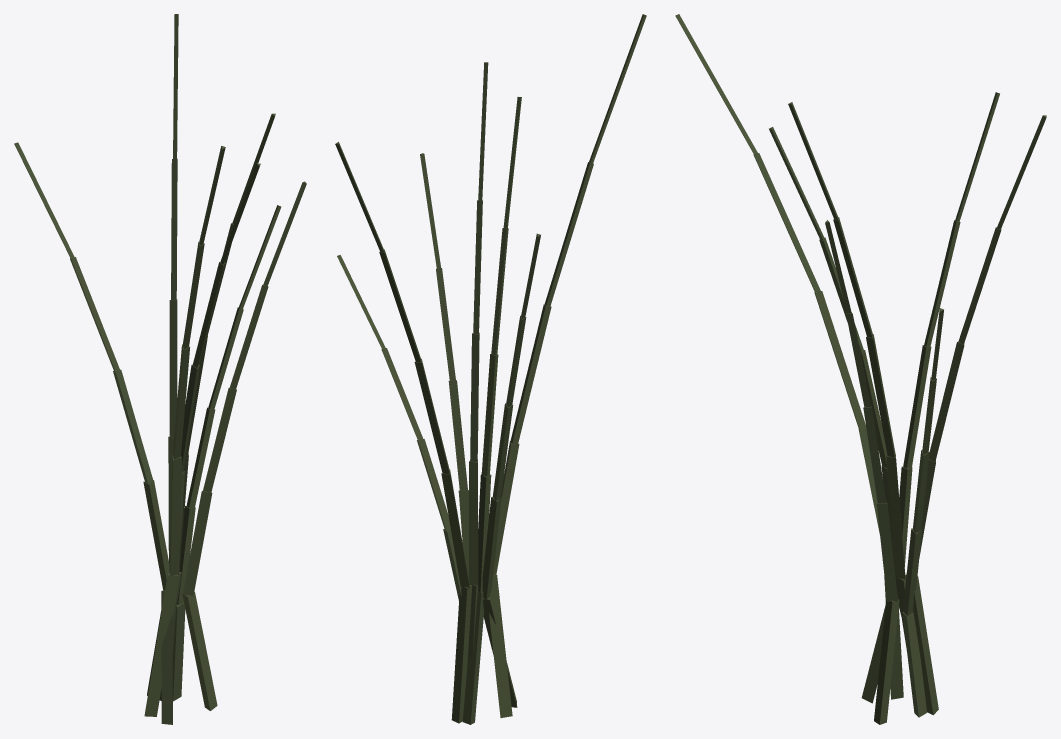
Rendered from lb_weed_A.fbx.
3 views of the same model, side by side, from view 1: azimuth 30°, elevation 25°; view 2: azimuth 150°, elevation 25°; view 3: azimuth 270°, elevation 25° (orthographic). The views are drawn at different scales.
Parts seen in each view (by area): view 1: lb_weed_A_export; view 2: lb_weed_A_export; view 3: lb_weed_A_export.
Boxes of the visible parts, x1,y1,x2,y2 form: lb_weed_A_export: [14, 14, 306, 724]; lb_weed_A_export: [335, 14, 646, 724]; lb_weed_A_export: [675, 14, 1046, 724].
Size of the model in its own units: 50.96 by 134 by 67.78.
